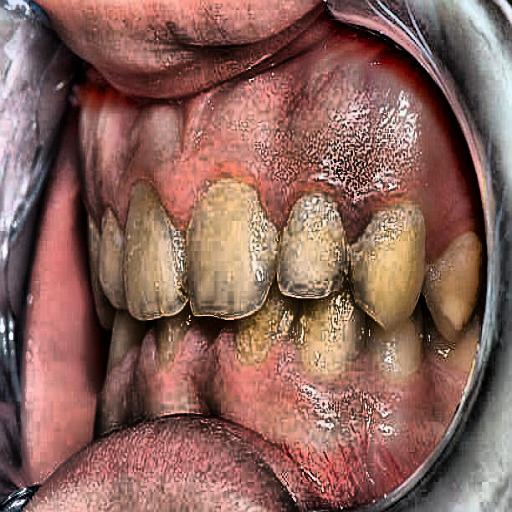Calculus: (118, 129, 423, 362)
